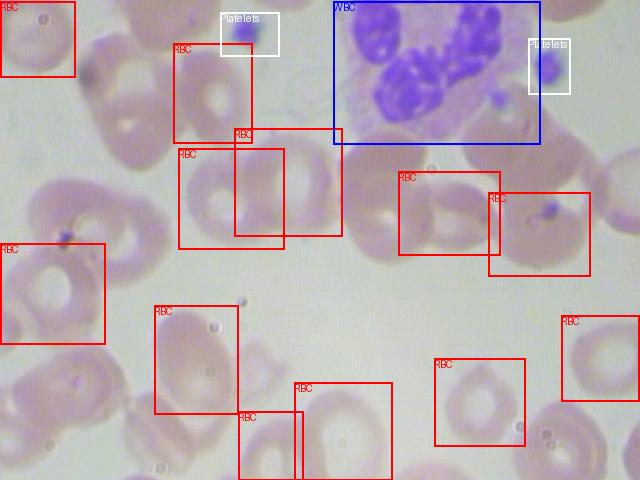Platelets: (220, 12, 279, 56), (528, 38, 570, 94)
RBC: (234, 128, 342, 236), (178, 148, 284, 249), (0, 243, 105, 344), (294, 382, 392, 480), (154, 305, 238, 414), (398, 171, 500, 255), (488, 192, 590, 276), (434, 358, 525, 446), (173, 43, 252, 143), (561, 315, 639, 401), (0, 1, 75, 77), (238, 411, 303, 480)
WBC: (333, 1, 540, 144)
